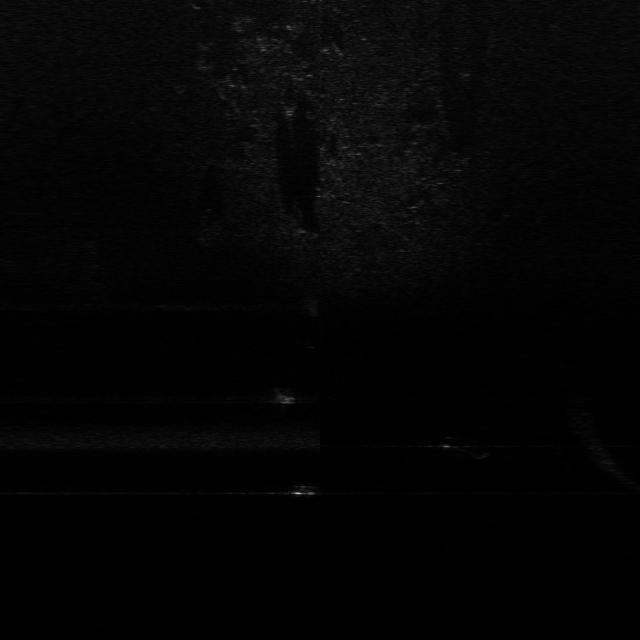cube: (289, 479, 322, 500)
square cage: (267, 387, 301, 405)
tyre: (437, 434, 493, 460)
